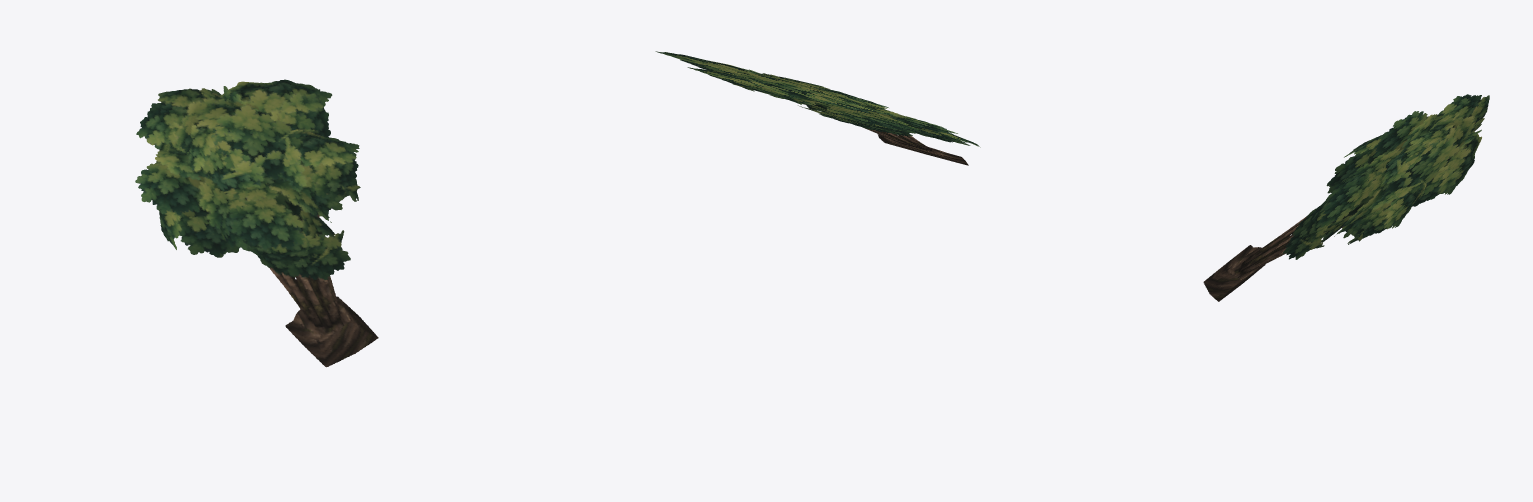
The model's file is tree_hazel_lod2.glb.
The picture shows the model from 3 angles, left to right: view 1: azimuth 30°, elevation 25°; view 2: azimuth 150°, elevation 25°; view 3: azimuth 270°, elevation 25°; orthographic projection. The views are drawn at different scales.
Visible parts, largest first — view 1: tree_hazel_lod2; view 2: tree_hazel_lod2; view 3: tree_hazel_lod2.
Part boxes in pixels (<box>): tree_hazel_lod2: <box>135,79,378,367</box>; tree_hazel_lod2: <box>655,51,980,165</box>; tree_hazel_lod2: <box>1203,94,1489,301</box>.
Size of the model in its own units: 3.89 by 4.26 by 3.23.
Materials: 1 (1 with a texture image).
